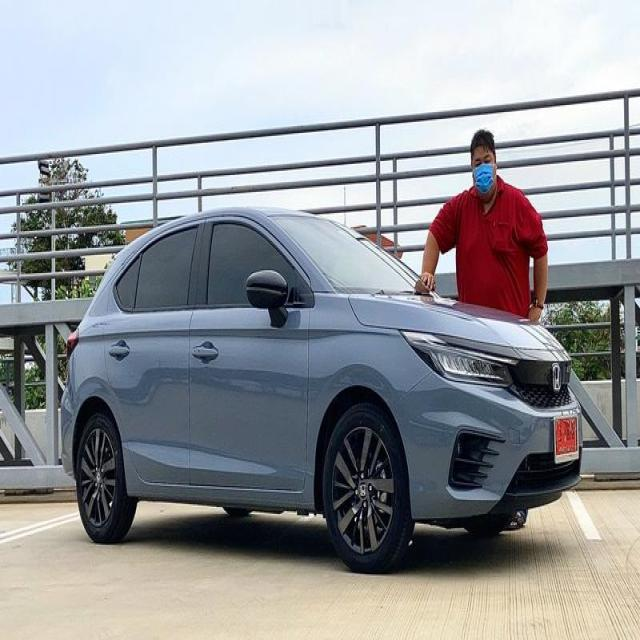Hatchback: (61, 211, 584, 576)
